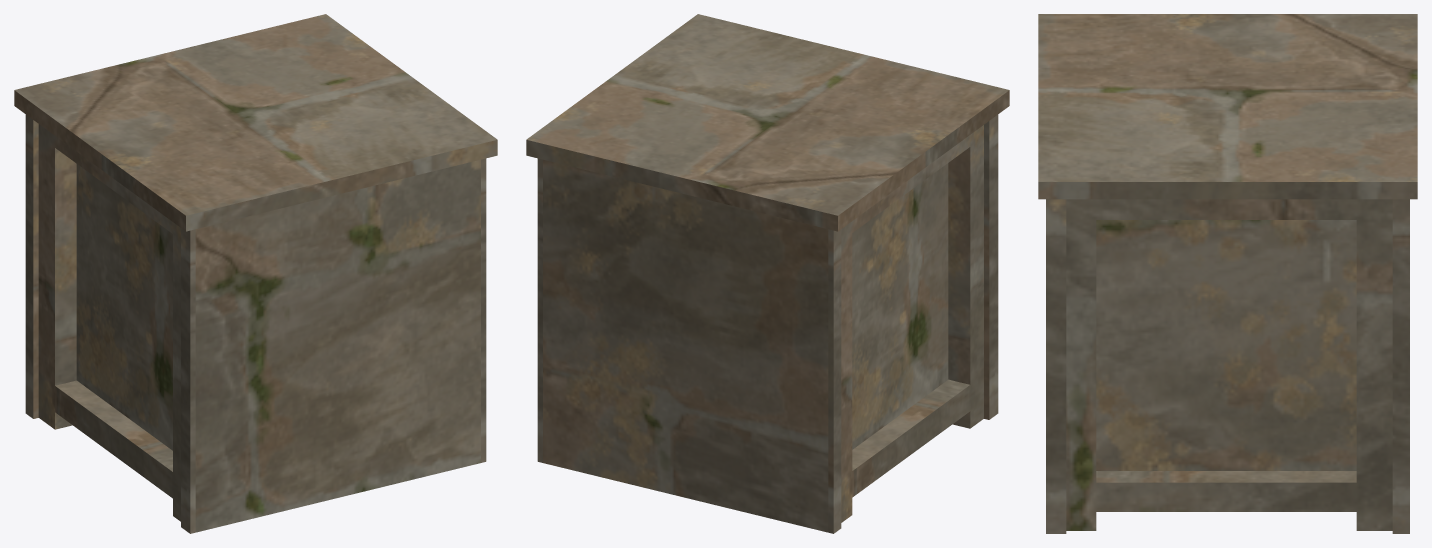
File: smallcrate.fbx
3 views of the same model, side by side, from view 1: azimuth 30°, elevation 25°; view 2: azimuth 150°, elevation 25°; view 3: azimuth 270°, elevation 25° (orthographic). The views are drawn at different scales.
Visible parts, largest first — view 1: Cube.377; view 2: Cube.377; view 3: Cube.377.
Boxes of the visible parts, left/top/right/bottom form: Cube.377: left=14, top=14, right=497, bottom=533; Cube.377: left=526, top=14, right=1009, bottom=533; Cube.377: left=1038, top=14, right=1417, bottom=533.
Bounding box in the file's own units: 66.45 × 65.72 × 63.41.
